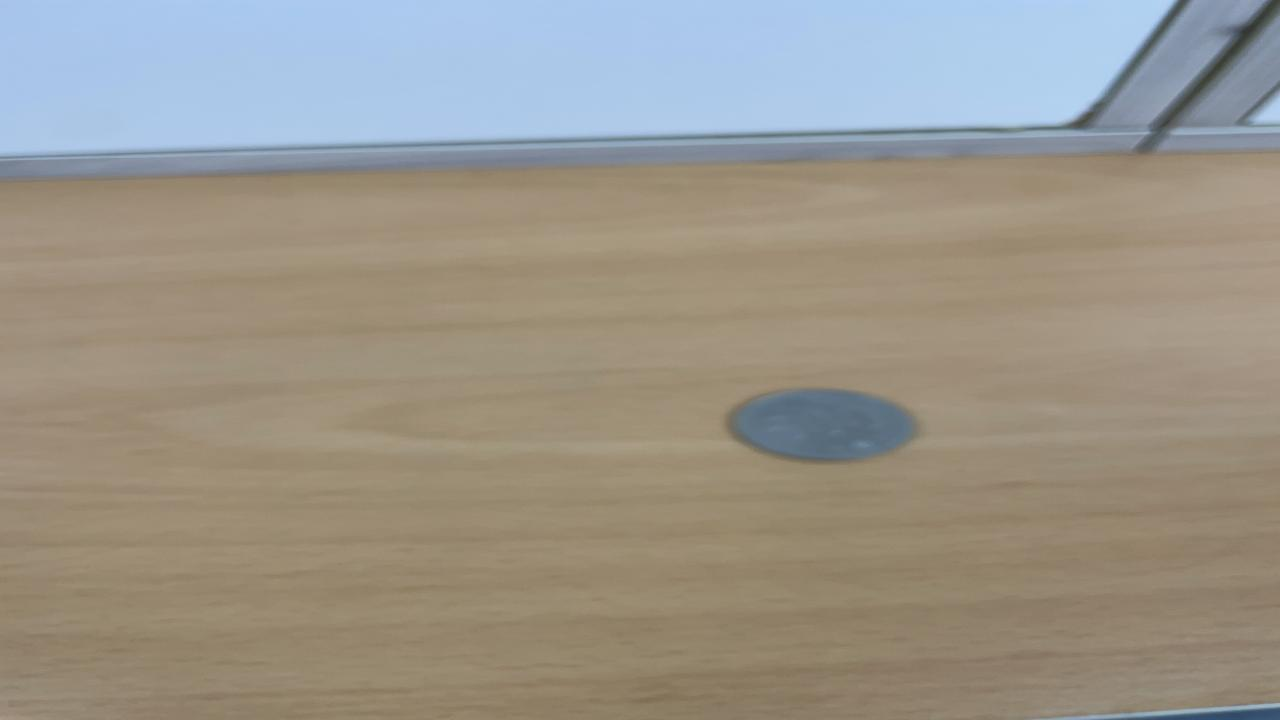coin: (728, 387, 922, 463)
